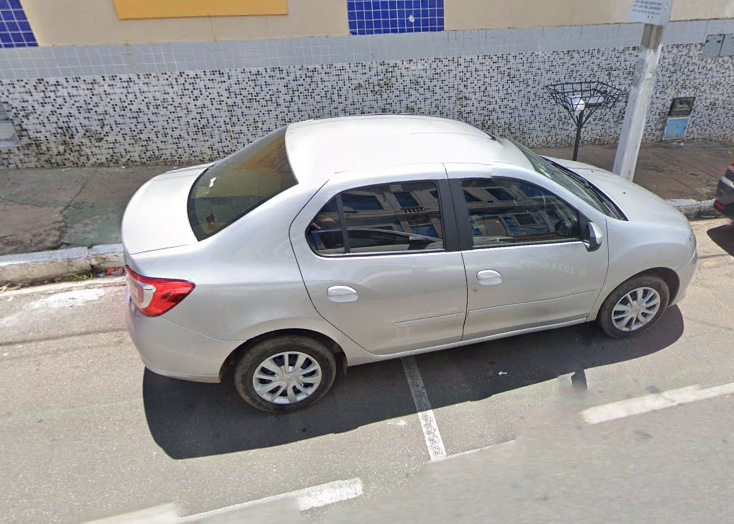car: (109, 103, 710, 421)
